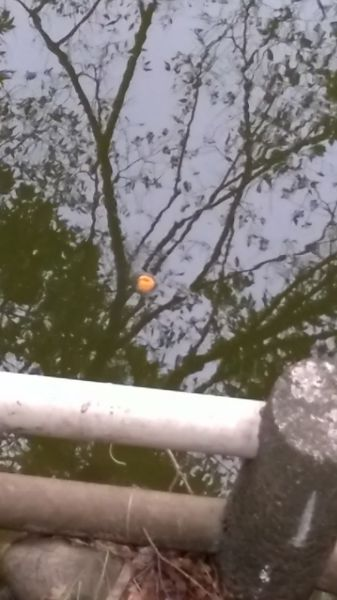eggs: (131, 272, 159, 297)
